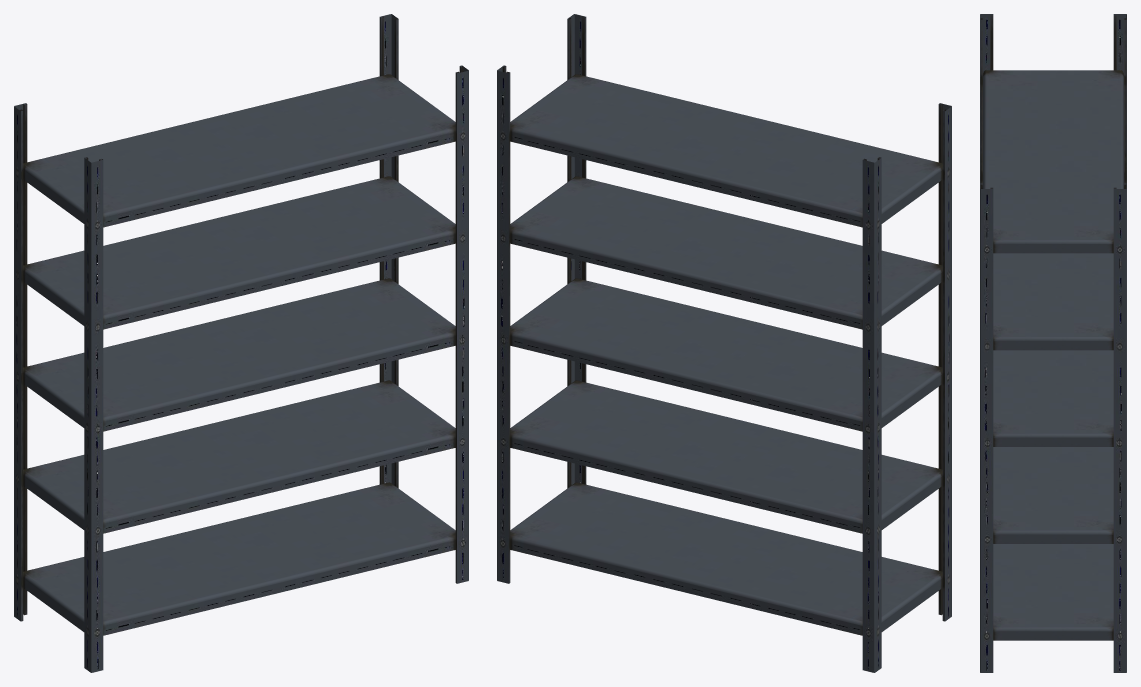
The model's file is shelf.glb.
3 renders of one model, left to right at view 1: azimuth 30°, elevation 25°; view 2: azimuth 150°, elevation 25°; view 3: azimuth 270°, elevation 25°, orthographic. The views are drawn at different scales.
Parts seen in each view (by area): view 1: Cloner_1; view 2: Cloner_1; view 3: Cloner_1.
Boxes of the visible parts, bbox=[...] form: Cloner_1: bbox=[14, 14, 468, 672]; Cloner_1: bbox=[497, 14, 951, 672]; Cloner_1: bbox=[980, 14, 1126, 672].
Bounding box in the file's own units: 1.55 × 2 × 0.55.
Materials: 1 (1 with a texture image).
